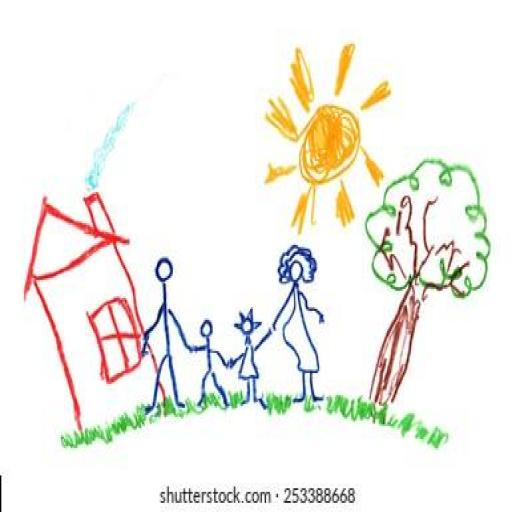person: (272, 244, 331, 405), (138, 254, 188, 417), (232, 301, 272, 404), (188, 316, 231, 410)
